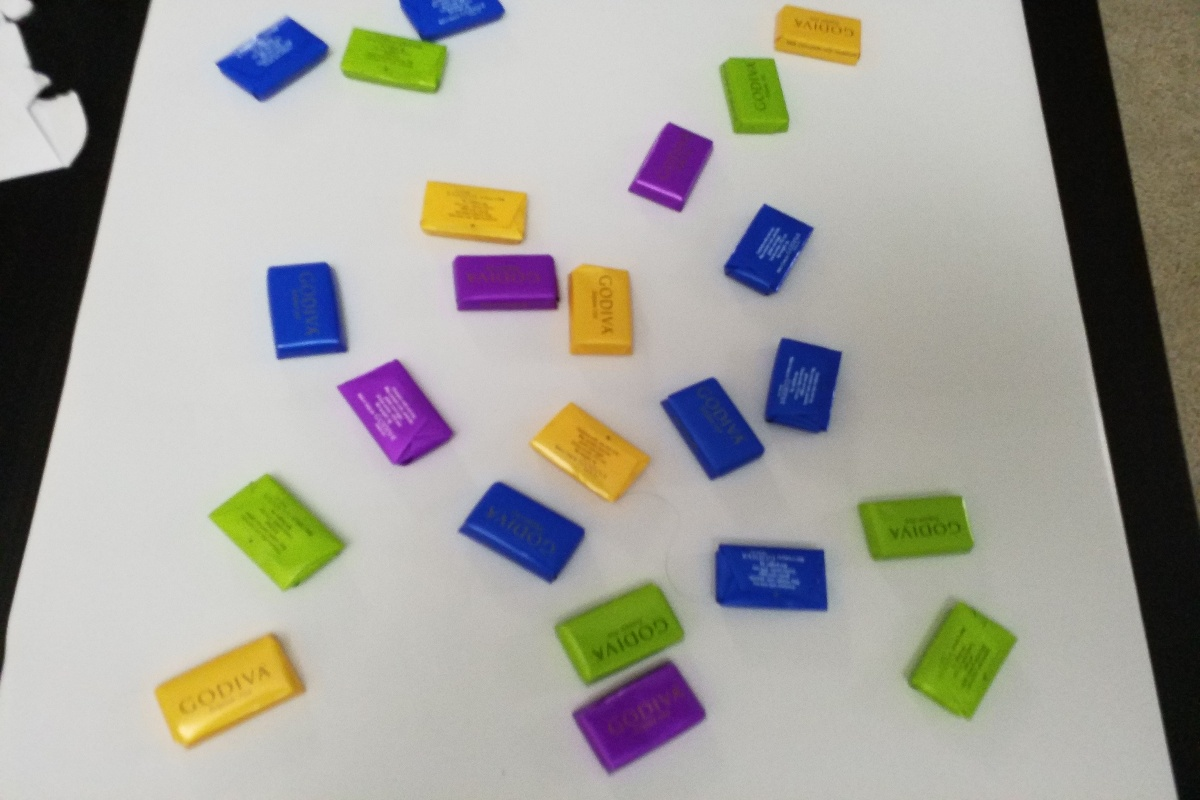chocolate_blue: (447, 478, 594, 586), (206, 10, 338, 108), (713, 199, 824, 305), (749, 333, 849, 445), (258, 249, 354, 365), (658, 385, 769, 483), (708, 533, 835, 615)
chocolate_green: (198, 461, 355, 600), (899, 588, 1023, 732), (547, 582, 695, 678), (849, 484, 982, 572), (328, 23, 459, 102), (706, 49, 802, 150)
chocolate_purple: (560, 664, 715, 776), (327, 354, 462, 472), (613, 115, 722, 219), (441, 250, 567, 319)
chocolate_yellow: (136, 630, 320, 753), (520, 402, 659, 505), (410, 169, 542, 250), (564, 257, 641, 367), (763, 3, 868, 69)
